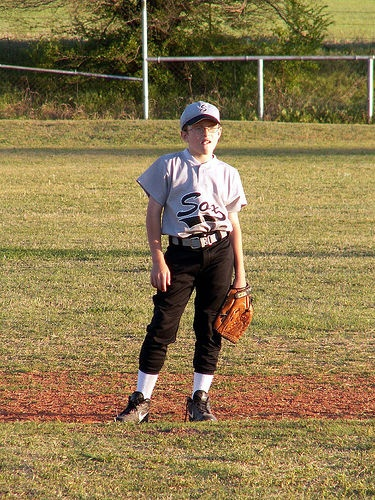head: (180, 101, 222, 156)
person: (117, 91, 253, 429)
